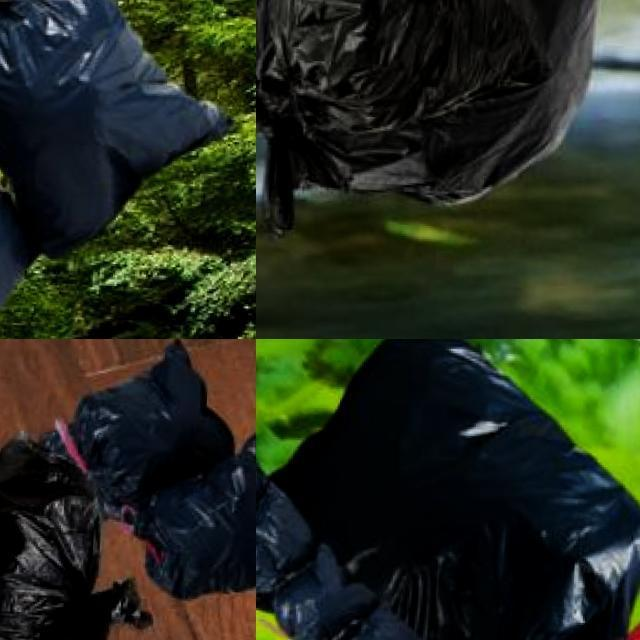waste: (256, 339, 640, 640), (256, 0, 601, 214), (0, 0, 234, 252), (0, 416, 141, 640), (69, 339, 236, 503), (136, 443, 256, 610), (275, 546, 378, 640), (256, 478, 319, 598), (337, 603, 438, 640)
